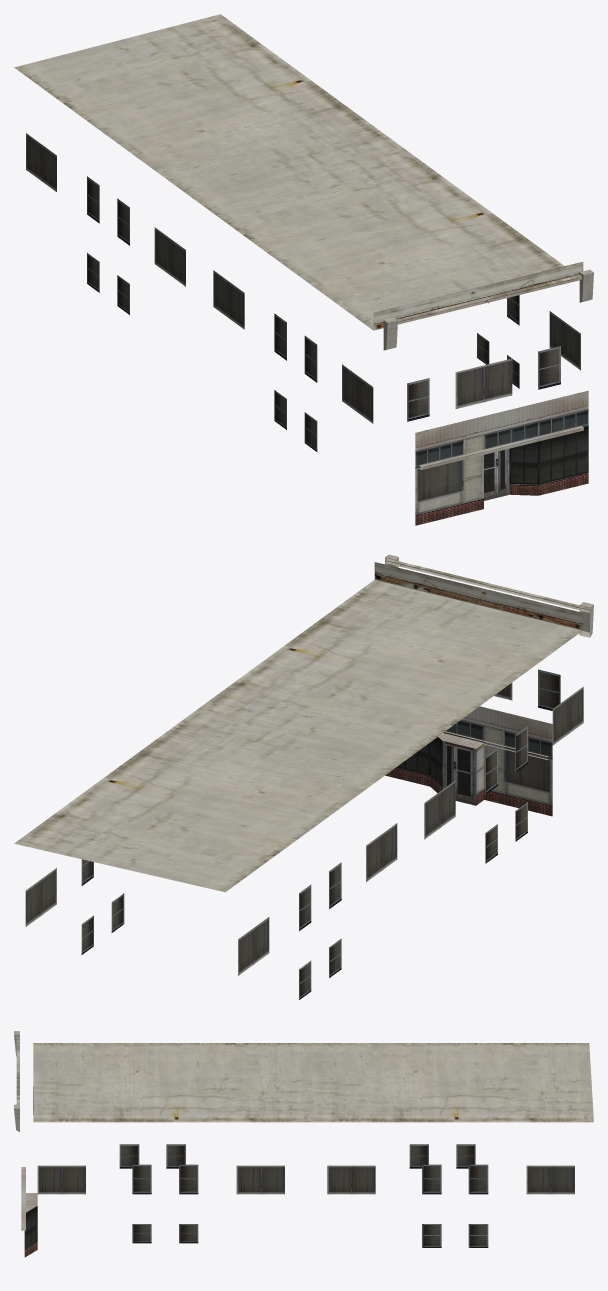
The model's file is rural_storesmall_4_rural_facade_flr_2_0_lev2.glb.
3 renders of one model, top to bottom at view 1: azimuth 30°, elevation 25°; view 2: azimuth 150°, elevation 25°; view 3: azimuth 270°, elevation 25°, orthographic. The views are drawn at different scales.
Parts seen in each view (by area): view 1: rural_storesmall_4_rural_facade_flr_2_0_lev2; view 2: rural_storesmall_4_rural_facade_flr_2_0_lev2; view 3: rural_storesmall_4_rural_facade_flr_2_0_lev2.
Part boxes in pixels (x1,y1,x2,y2): rural_storesmall_4_rural_facade_flr_2_0_lev2: [14, 14, 593, 525]; rural_storesmall_4_rural_facade_flr_2_0_lev2: [14, 554, 593, 999]; rural_storesmall_4_rural_facade_flr_2_0_lev2: [14, 1031, 593, 1257].
Size of the model in its own units: 5.95 by 5.88 by 18.37.
Materials: 1 (1 with a texture image).
